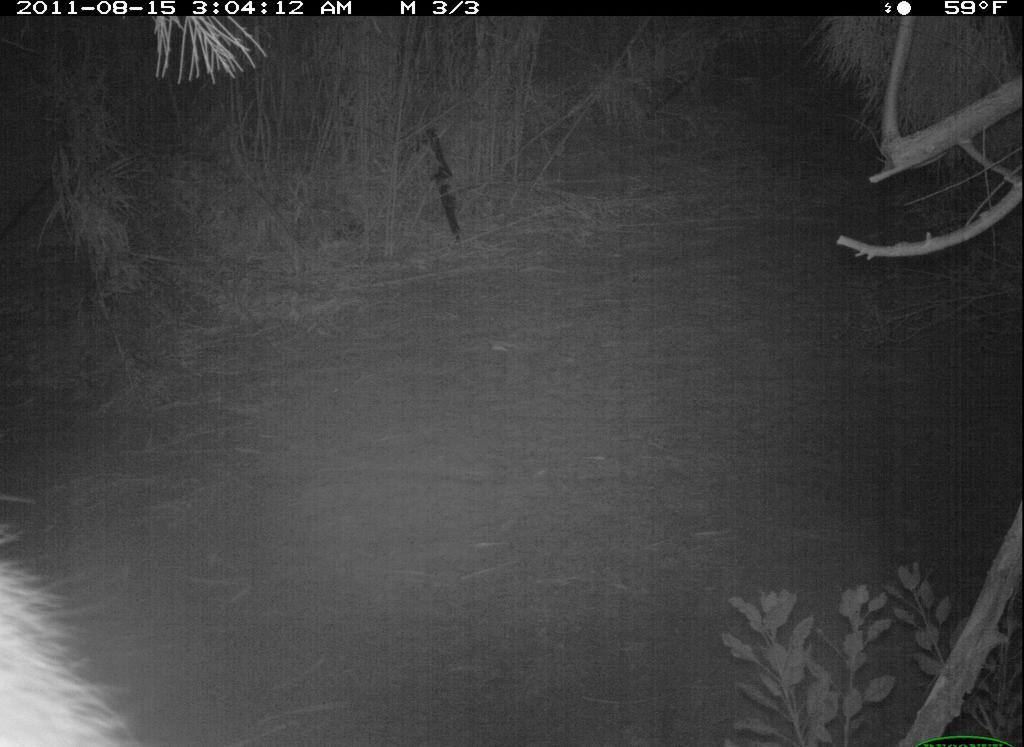raccoon: (2, 491, 143, 747)
